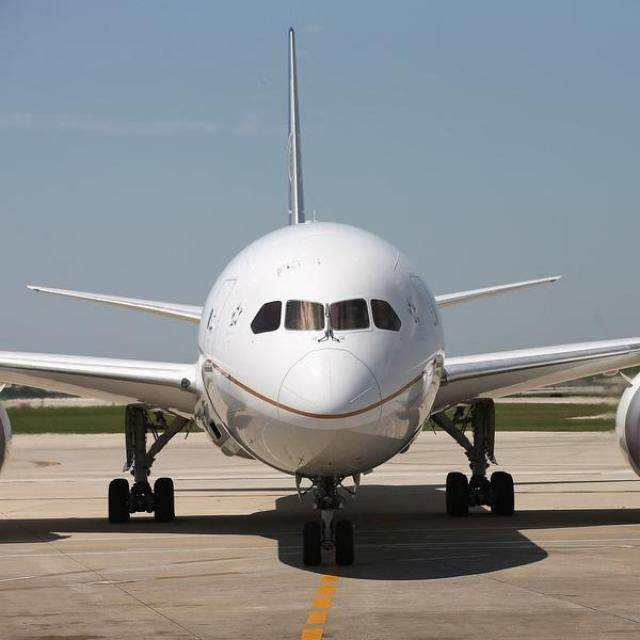aircraft: (0, 8, 640, 588)
